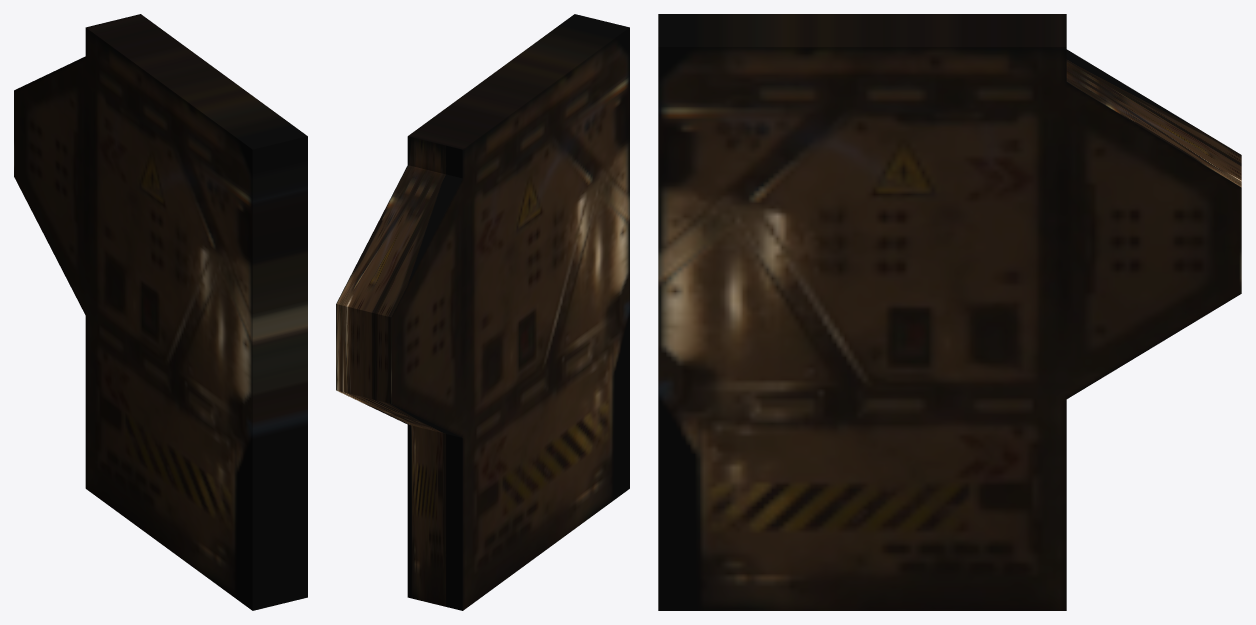
Rendered from DAPPERDOORL.obj.
The picture shows the model from 3 angles, left to right: view 1: azimuth 30°, elevation 25°; view 2: azimuth 150°, elevation 25°; view 3: azimuth 270°, elevation 25°; orthographic projection. The views are drawn at different scales.
Visible parts, largest first — view 1: MODEL_DAPPERDOORL; view 2: MODEL_DAPPERDOORL; view 3: MODEL_DAPPERDOORL.
Part boxes in pixels (x1,y1,x2,y2): MODEL_DAPPERDOORL: (14, 14, 307, 610); MODEL_DAPPERDOORL: (336, 14, 629, 610); MODEL_DAPPERDOORL: (658, 14, 1241, 610).
Size of the model in its own units: 16 by 128 by 120.
